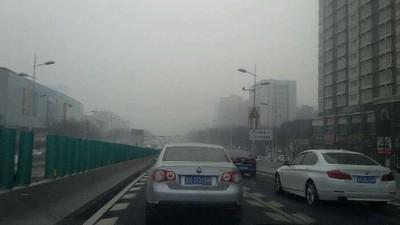car: (271, 146, 397, 209), (145, 142, 243, 215), (218, 149, 258, 178)
